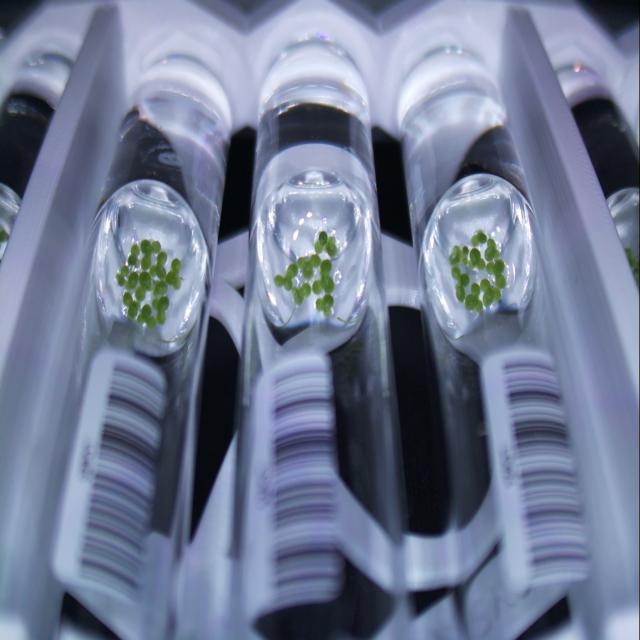Lemna-Gibba: (312, 259, 334, 294), (451, 265, 470, 302), (314, 230, 338, 257), (274, 264, 298, 290), (140, 240, 160, 270), (298, 254, 321, 280), (480, 279, 501, 307), (486, 260, 506, 289), (135, 270, 152, 300), (152, 295, 169, 324), (122, 292, 140, 319), (465, 284, 482, 312), (166, 259, 181, 290), (291, 282, 311, 305), (138, 304, 156, 329), (316, 294, 334, 317), (151, 252, 166, 279), (449, 245, 469, 265), (468, 247, 485, 270), (484, 238, 499, 262), (471, 230, 488, 247), (128, 243, 140, 265), (116, 265, 129, 285), (125, 272, 139, 290), (154, 280, 168, 296)
